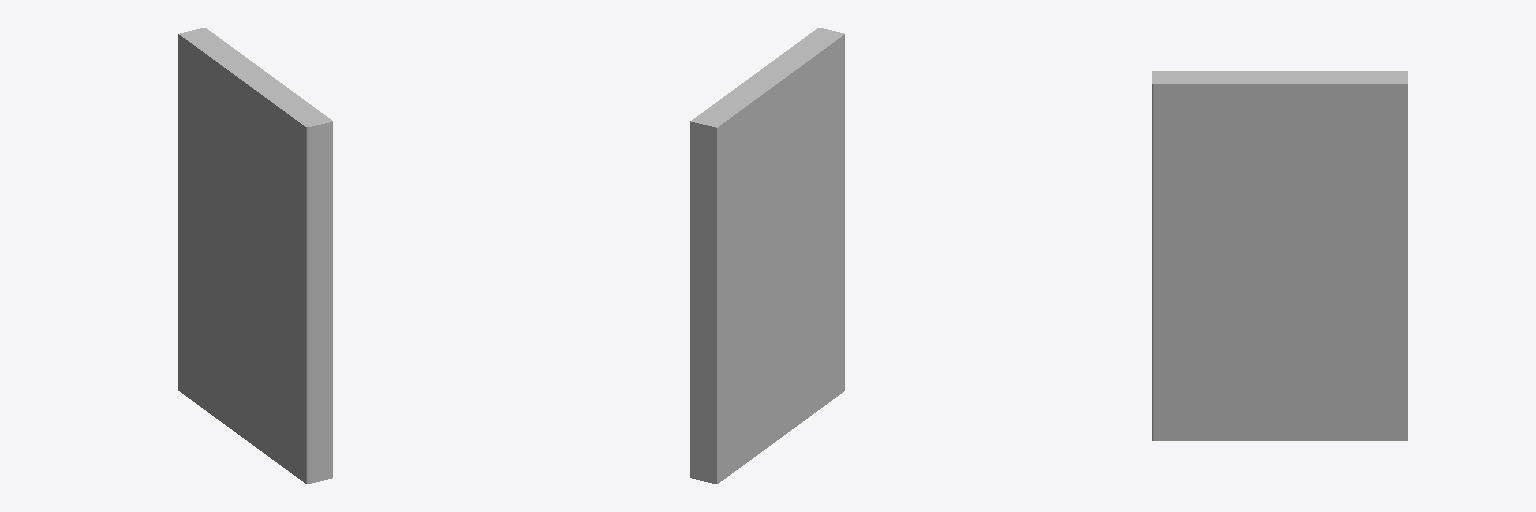
File: book.obj
3 views of the same model, side by side, from view 1: azimuth 30°, elevation 25°; view 2: azimuth 150°, elevation 25°; view 3: azimuth 270°, elevation 25° (orthographic).
Visible parts, largest first — view 1: Object_1; view 2: Object_1; view 3: Object_1.
Boxes of the visible parts, x1,y1,x2,y2 form: Object_1: [178, 28, 332, 483]; Object_1: [690, 28, 844, 483]; Object_1: [1152, 71, 1407, 440].
Bounding box in the file's own units: 7.09 × 90.55 × 59.06.